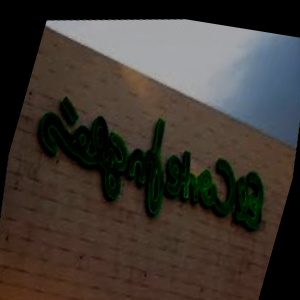corte_ingles: (264, 137, 300, 212)
